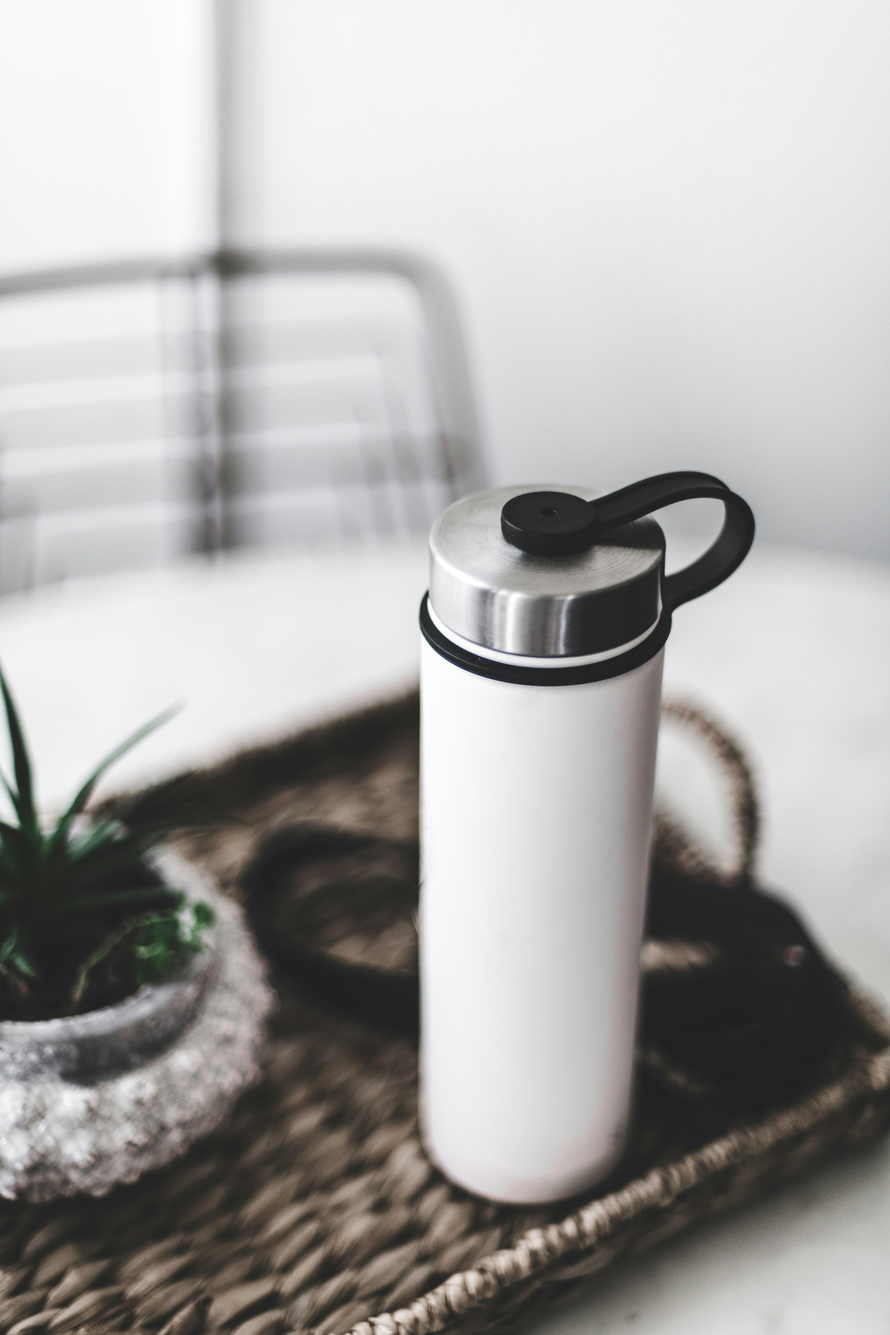Bottle-Detection: (341, 438, 783, 1229)
